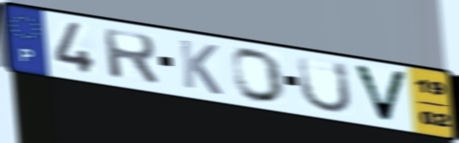4: (51, 20, 98, 76)
K: (177, 37, 225, 98)
O: (229, 47, 288, 105)
R: (99, 26, 162, 87)
U: (295, 54, 355, 115)
V: (350, 62, 411, 126)
